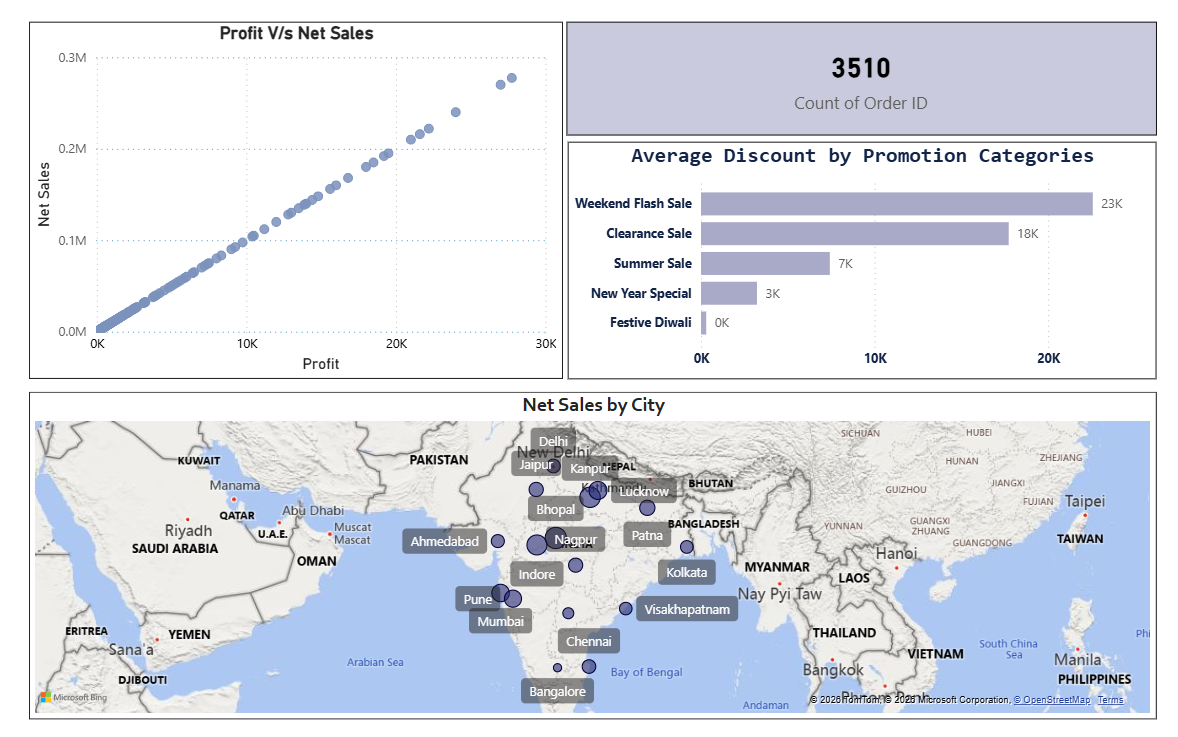

This screenshot's page, from the dashboard's own definition file:
{"tool":"powerbi","page":{"name":"Overview","canvas":[1280,720],"ordinal":2},"visuals":[{"type":"scatterChart","title":"Profit V/s Net Sales","fields":{"X":["Fact Table.Profit"],"Y":["Fact Table.Net Sales"]},"box":[99.7,32.1,507,339.6],"z":0},{"type":"barChart","title":"Average Discount by Promotion Categories","fields":{"Y":["Avg(Fact Table.Discount)"],"Category":["Dim Promotion.Promotion Name"]},"box":[611.5,146,559.2,225.6],"z":1000},{"type":"card","fields":{"Values":["Count(Fact Table.Order ID)"]},"box":[610.3,32.1,560.4,108],"z":2000},{"type":"map","title":"Net Sales by City","fields":{"Category":["Dim Customers.City"],"Size":["Sum(Fact Table.Net Sales)"]},"box":[99.7,383.5,1071,311.1],"z":3000},{"type":"actionButton","box":[0,0,100,40],"z":5000}]}

Visuals, with their boxes on the page's 1280x720 design canvas (x1, y1, x2, y2). These are canvas units, not pixel positions in the 1178x737 screenshot, which may show the page scaled, cropped or inside an application window:
"Profit V/s Net Sales" scatterChart: [100, 32, 607, 372]
"Average Discount by Promotion Categories" barChart: [612, 146, 1171, 372]
card - Count(Fact Table.Order ID): [610, 32, 1171, 140]
"Net Sales by City" map: [100, 384, 1171, 695]
actionButton: [0, 0, 100, 40]
